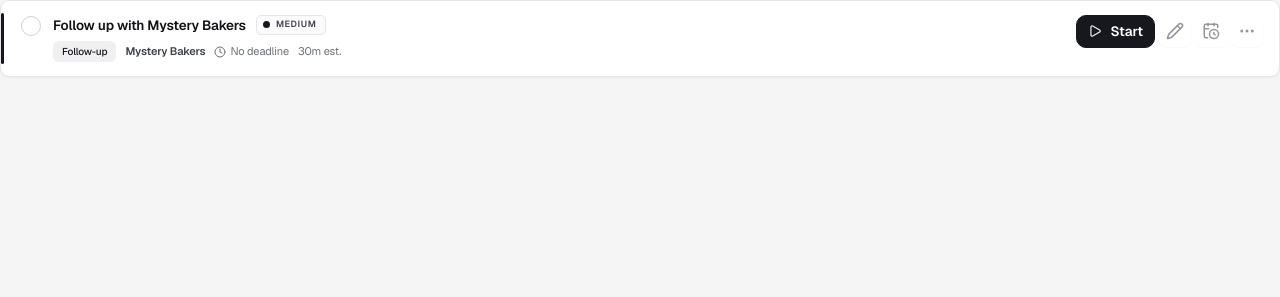
task card menu › keeps every action, including the ones below the fold
Click the button named "More actions for" at (1247, 32), box [1231, 16, 1263, 48]
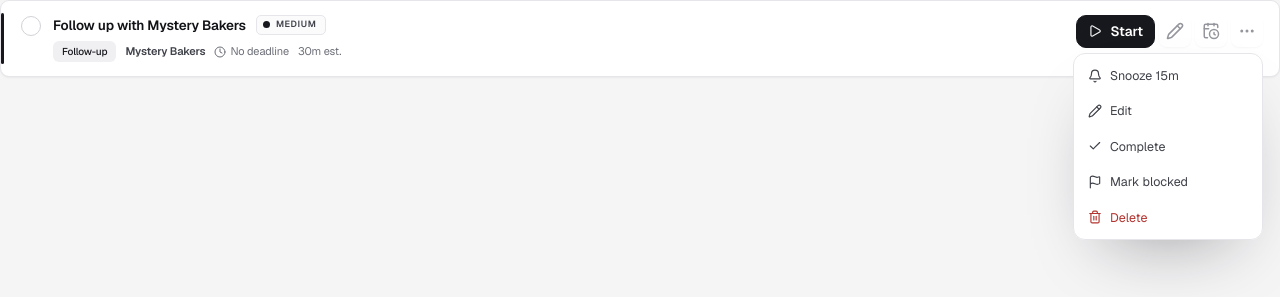
expect the menu items read "Snooze 15m", "Edit", "Complete", "Mark blocked", "Delete", in this order: met, box [1079, 60, 1257, 93]; [1079, 95, 1257, 128]; [1079, 130, 1257, 164]; [1079, 166, 1257, 199]; [1079, 201, 1257, 234]
